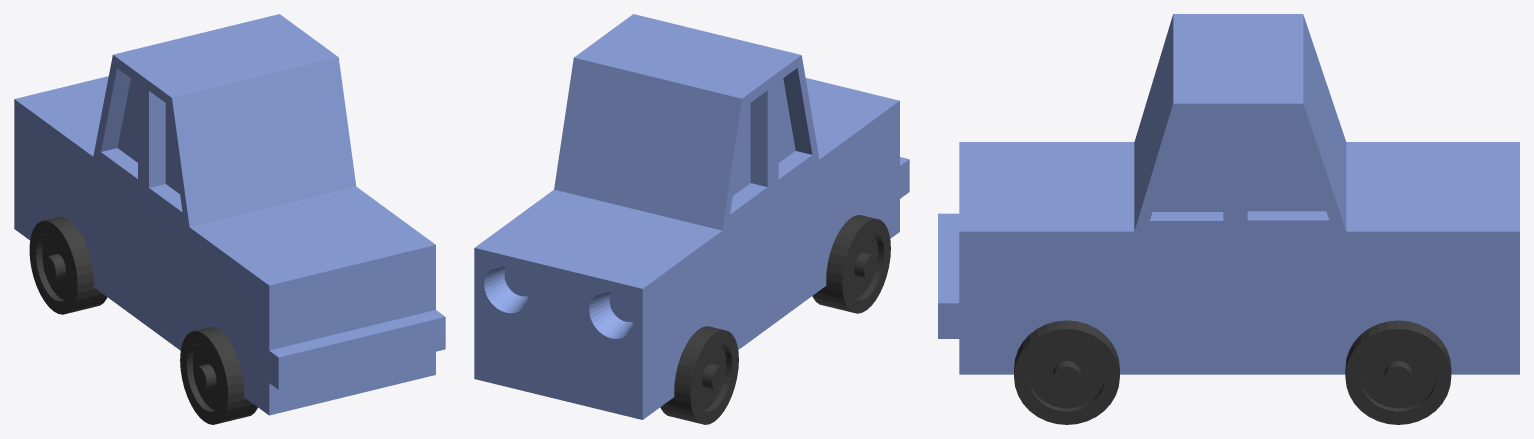
The model's file is LeftWheel 1.fbx.
The picture shows the model from 3 angles, left to right: view 1: azimuth 30°, elevation 25°; view 2: azimuth 150°, elevation 25°; view 3: azimuth 270°, elevation 25°; orthographic projection. The views are drawn at different scales.
Parts seen in each view (by area): view 1: body, FLWheel, RLWheel; view 2: body, RLWheel, FLWheel; view 3: body, FRWheel, RRWheel.
Part boxes in pixels (bbox=[...]): body: bbox=[14, 14, 445, 415]; FLWheel: bbox=[29, 216, 107, 314]; RLWheel: bbox=[180, 327, 257, 424]; body: bbox=[474, 14, 909, 419]; RLWheel: bbox=[812, 215, 890, 313]; FLWheel: bbox=[660, 326, 738, 424]; body: bbox=[938, 14, 1519, 374]; FRWheel: bbox=[1345, 320, 1451, 424]; RRWheel: bbox=[1014, 320, 1119, 424].
Size of the model in its own units: 248 by 326 by 549.
